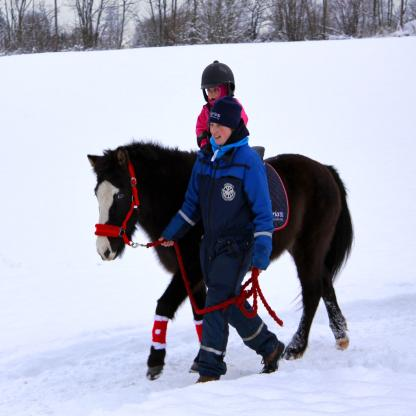Helmet: (201, 65, 237, 104)
